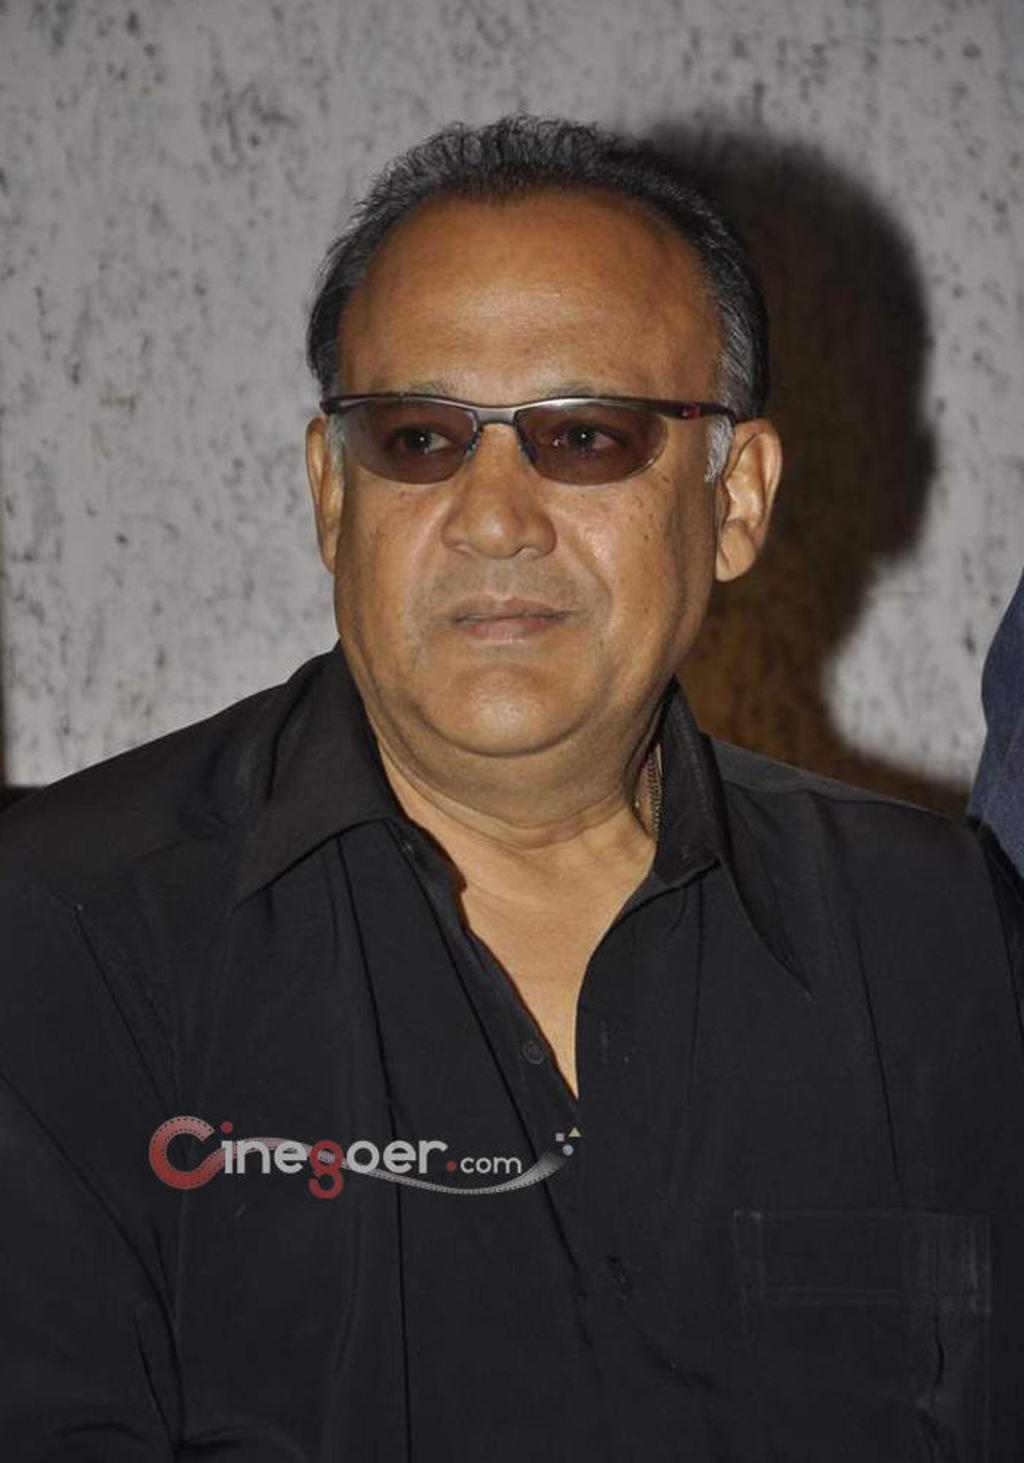face: (339, 196, 714, 757)
